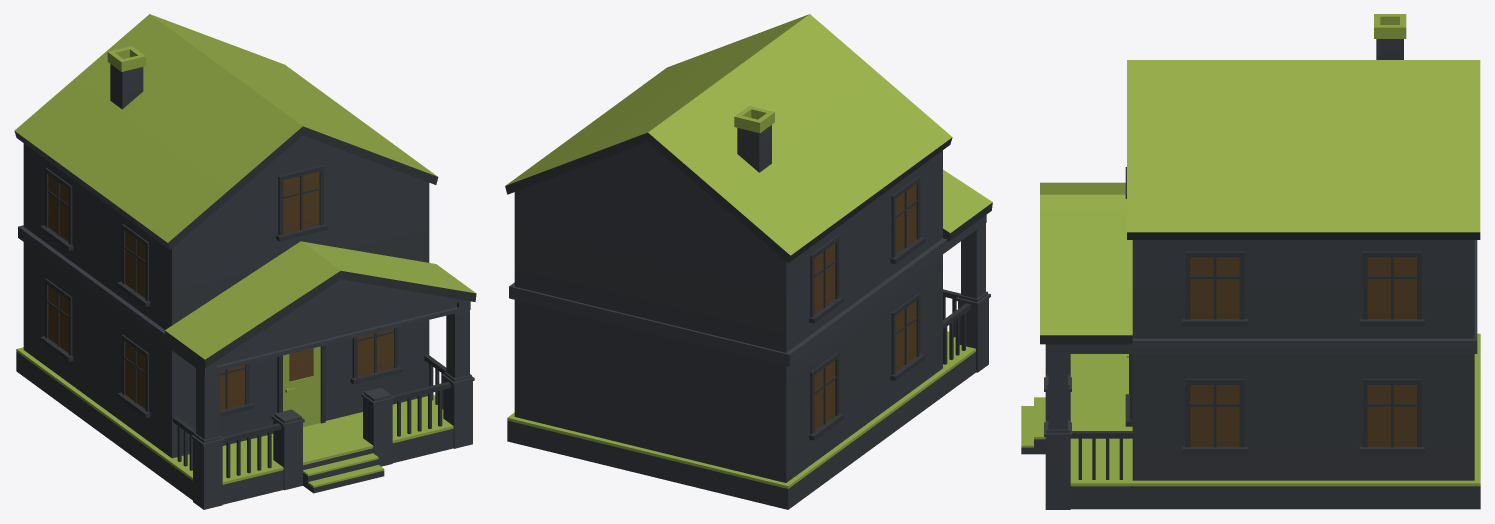
The model's file is SuburbHouse_02.fbx.
The picture shows the model from 3 angles, left to right: view 1: azimuth 30°, elevation 25°; view 2: azimuth 150°, elevation 25°; view 3: azimuth 270°, elevation 25°; orthographic projection. The views are drawn at different scales.
Parts seen in each view (by area): view 1: SuburbHouse_02; view 2: SuburbHouse_02; view 3: SuburbHouse_02.
Part boxes in pixels (x1,y1,x2,y2): SuburbHouse_02: (14,14,476,509); SuburbHouse_02: (505,14,992,509); SuburbHouse_02: (1021,14,1480,509).
Bounding box in the file's own units: 6.34 × 7.33 × 8.06.
